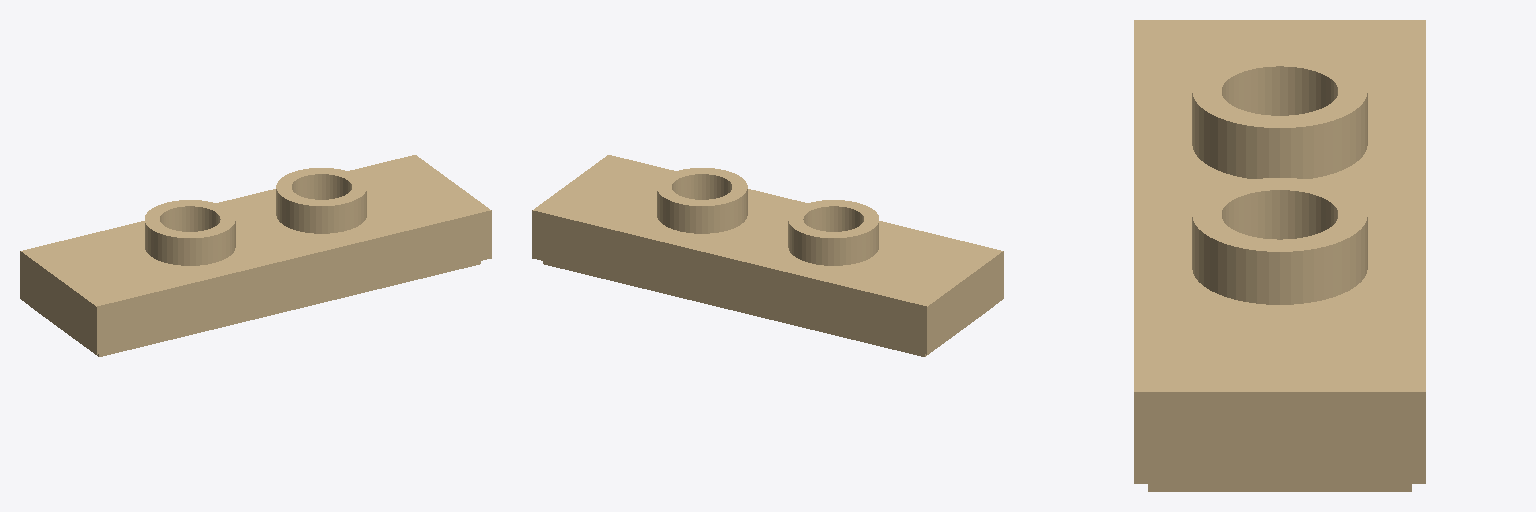
URDF robot description (34103__tan):
<?xml version="1.0"?>
<robot name="34103__tan">
  <link name="34103__tan">
    <inertial>
      <origin xyz="0.000000 0.000000 -0.001055" rpy="0 0 0"/>
      <mass value="0.000840"/>
      <inertia ixx="5.466965507e-09" ixy="-5.159781409e-25" ixz="-3.055117956e-25" iyy="3.830927649e-08" iyz="1.835657523e-26" izz="4.109653476e-08"/>
    </inertial>
    <visual>
      <geometry>
        <mesh filename="../meshes/visual/34103.obj" scale="1 1 1"/>
      </geometry>
      <material name="34103__tan_color">
        <color rgba="0.860 0.770 0.610 1.000"/>
      </material>
    </visual>
    <collision>
      <geometry>
        <mesh filename="../meshes/collision/34103_hull.obj" scale="1 1 1"/>
      </geometry>
    </collision>
  </link>
</robot>

--- What the picture shows (computed from the rendered views, not written in the file) ---
Views: 3 orthographic renders of the robot side by side, from view 1: azimuth 30°, elevation 25°; view 2: azimuth 150°, elevation 25°; view 3: azimuth 270°, elevation 25°.
Model 34103__tan with 1 links and 0 joints (none), rooted at 34103__tan, posed every joint at zero.
Visible links, largest first — view 1: 34103__tan; view 2: 34103__tan; view 3: 34103__tan.
Boxes of the visible links, x1,y1,x2,y2 form: 34103__tan: (20, 155, 491, 356); 34103__tan: (532, 155, 1003, 356); 34103__tan: (1134, 20, 1425, 491).
Bounding box of the posed robot: 0.024 × 0.008 × 0.0048 m (x, y, z).
1 mesh visuals loaded from 1 distinct referenced files (1 OBJ).
